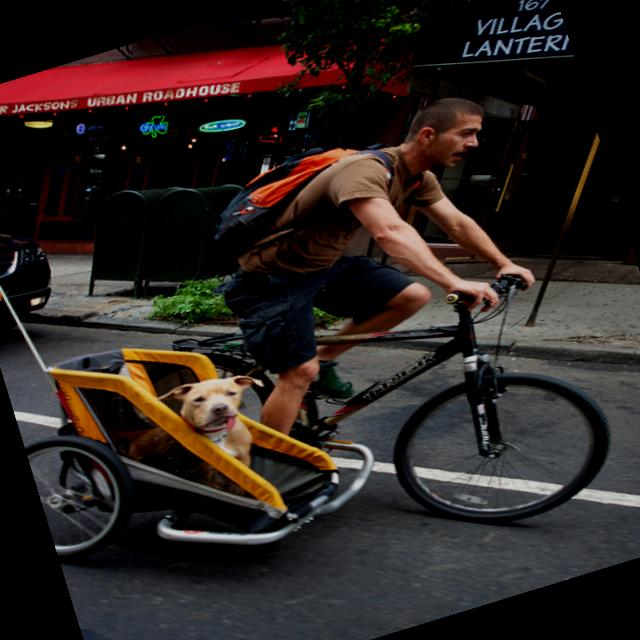Vehicle: (0, 169, 66, 333)
